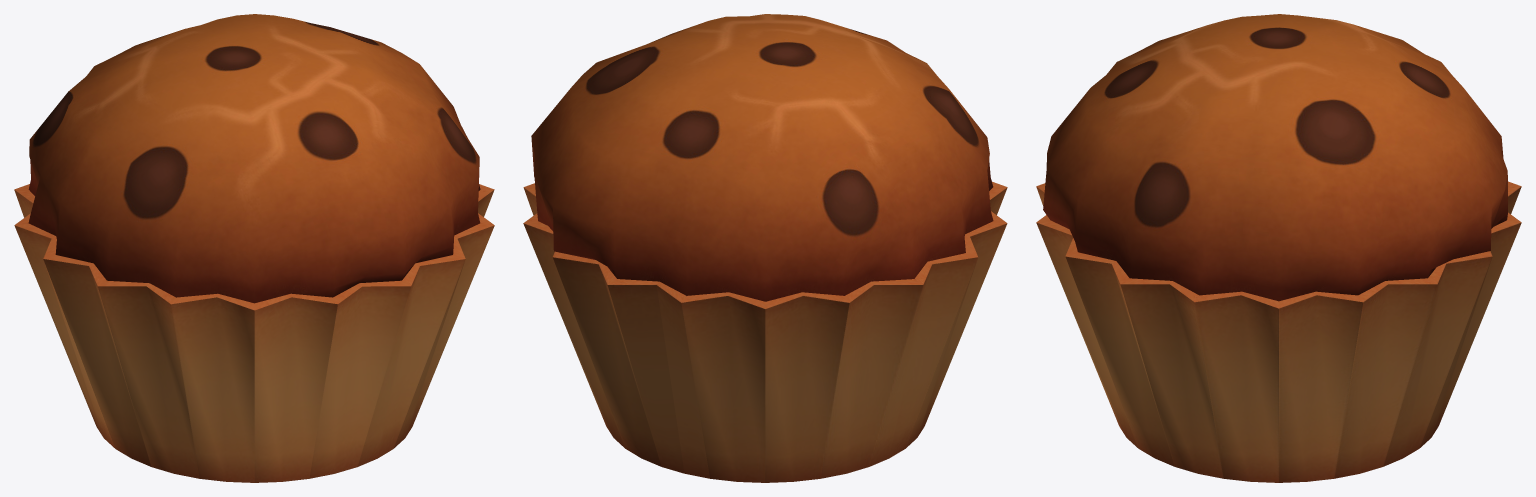
File: Muffin.fbx
3 views of the same model, side by side, from view 1: azimuth 30°, elevation 25°; view 2: azimuth 150°, elevation 25°; view 3: azimuth 270°, elevation 25° (orthographic).
Parts seen in each view (by area): view 1: Muffin_1; view 2: Muffin_1; view 3: Muffin_1.
Part boxes in pixels (left/top/right/bottom): Muffin_1: left=14, top=14, right=494, bottom=482; Muffin_1: left=523, top=14, right=1007, bottom=482; Muffin_1: left=1036, top=14, right=1521, bottom=482.
Size of the model in its own units: 30.23 by 24.81 by 29.77.
